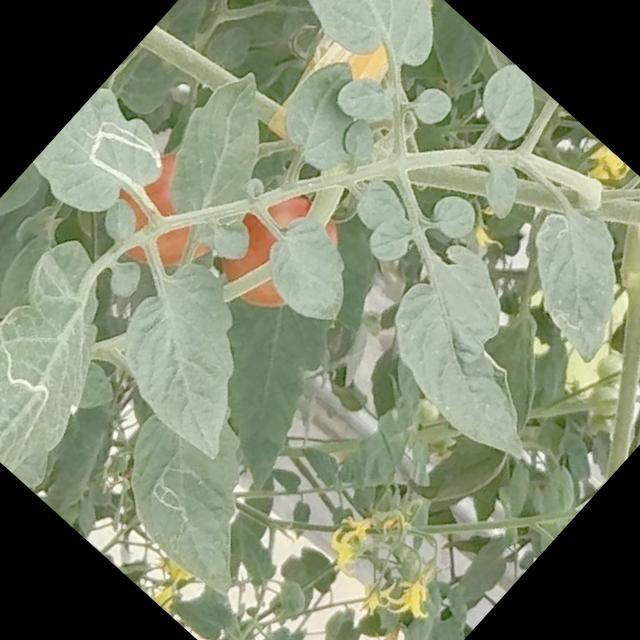Tomato healthy leaf: (356, 236, 604, 479), (89, 248, 308, 466), (138, 59, 314, 239), (239, 0, 462, 96), (244, 202, 379, 336)
Tomato target spot leaf: (86, 381, 314, 605), (0, 269, 139, 483), (487, 186, 640, 367), (26, 80, 184, 240)
